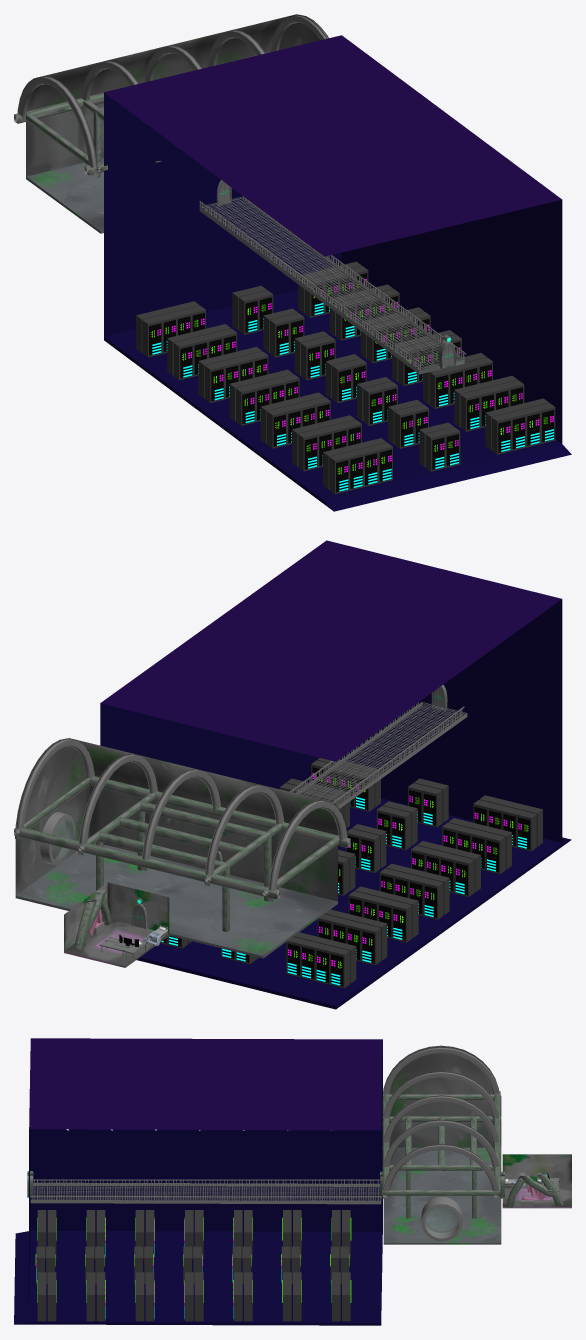
Rendered from lab.glb.
The picture shows the model from 3 angles, top to bottom: view 1: azimuth 30°, elevation 25°; view 2: azimuth 150°, elevation 25°; view 3: azimuth 270°, elevation 25°; orthographic projection. The views are drawn at different scales.
Parts seen in each view (by area): view 1: sol.013, serveurs, Cube.019, sol.012, Cylinder.017, Cylinder.018, sol.017, sol.001, Cube.020, pilier.010, pilier.012; view 2: sol.013, serveurs, sol.001, Cylinder.017, sol.017, Cylinder.018, Cube.019, sol.012, pilier.010, sol.016, sol.018, pilier.011 (+9 smaller); view 3: sol.013, serveurs, sol.001, sol.012, Cylinder.018, Cube.019, Cylinder.017, sol.017, Cube.020, sol.016, pilier.012, sol (+6 smaller).
Boxes of the visible parts, x1,y1,x2,y2 form: sol.013: (104, 35, 571, 511); serveurs: (136, 261, 555, 494); Cube.019: (232, 285, 460, 471); sol.012: (199, 196, 464, 374); Cylinder.017: (17, 14, 326, 113); Cylinder.018: (18, 15, 328, 177); sol.017: (26, 103, 103, 176); sol.001: (26, 157, 103, 233); Cube.020: (199, 196, 466, 370); pilier.010: (14, 52, 270, 123); pilier.012: (26, 113, 102, 172); sol.013: (100, 540, 571, 1009); serveurs: (160, 758, 542, 988); sol.001: (15, 843, 337, 958); Cylinder.017: (18, 738, 347, 837); sol.017: (90, 785, 337, 901); Cylinder.018: (15, 739, 347, 901); Cube.019: (221, 778, 448, 964); sol.012: (295, 701, 467, 808); pilier.010: (14, 827, 280, 899); sol.016: (64, 882, 169, 950); sol.018: (15, 785, 90, 895); pilier.011: (88, 776, 350, 847); sol.013: (14, 1038, 382, 1325); serveurs: (37, 1210, 351, 1321); sol.001: (383, 1147, 501, 1244); sol.012: (30, 1182, 381, 1204); Cylinder.018: (382, 1047, 499, 1197); Cube.019: (35, 1246, 349, 1284); Cylinder.017: (383, 1045, 498, 1094); sol.017: (389, 1096, 501, 1147); Cube.020: (31, 1179, 381, 1202); sol.016: (502, 1154, 571, 1183); pilier.012: (382, 1094, 500, 1195); sol: (502, 1183, 571, 1208).
Bounding box in the file's own units: 36.94 × 32.38 × 83.87.
Materials: 25 (10 with a texture image).
